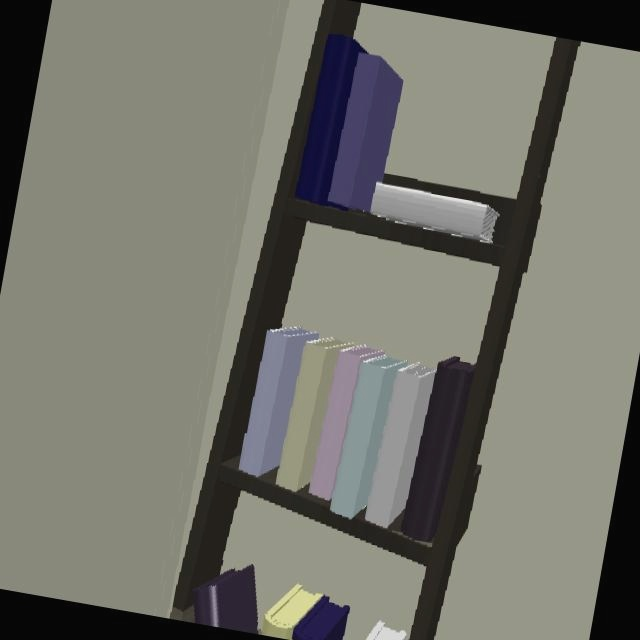book: (241, 327, 474, 541), (296, 34, 498, 241), (264, 585, 349, 640), (194, 566, 256, 631), (368, 626, 404, 640)
shelf: (173, 0, 579, 640)
